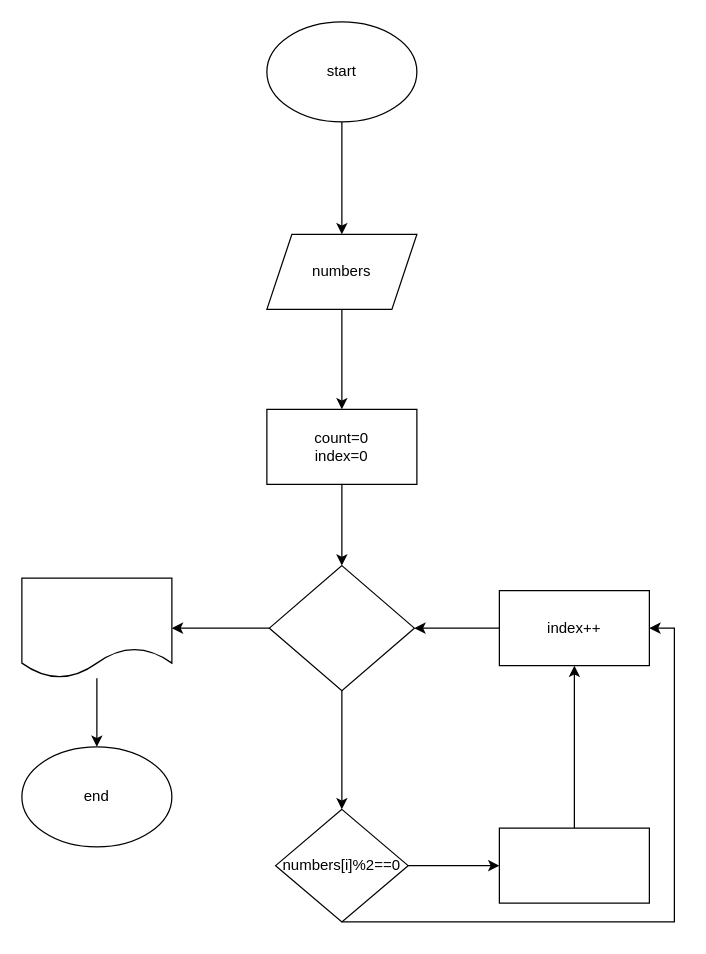
This 706x954 diagram has some shape labels left out. The shapes that lost their labels are listed below. From the top down, each one's centre as x and y in pixels, then its label:
At (x=96, y=627): "count".
At (x=341, y=627): "i<numbers.length".
At (x=573, y=865): "count++".
